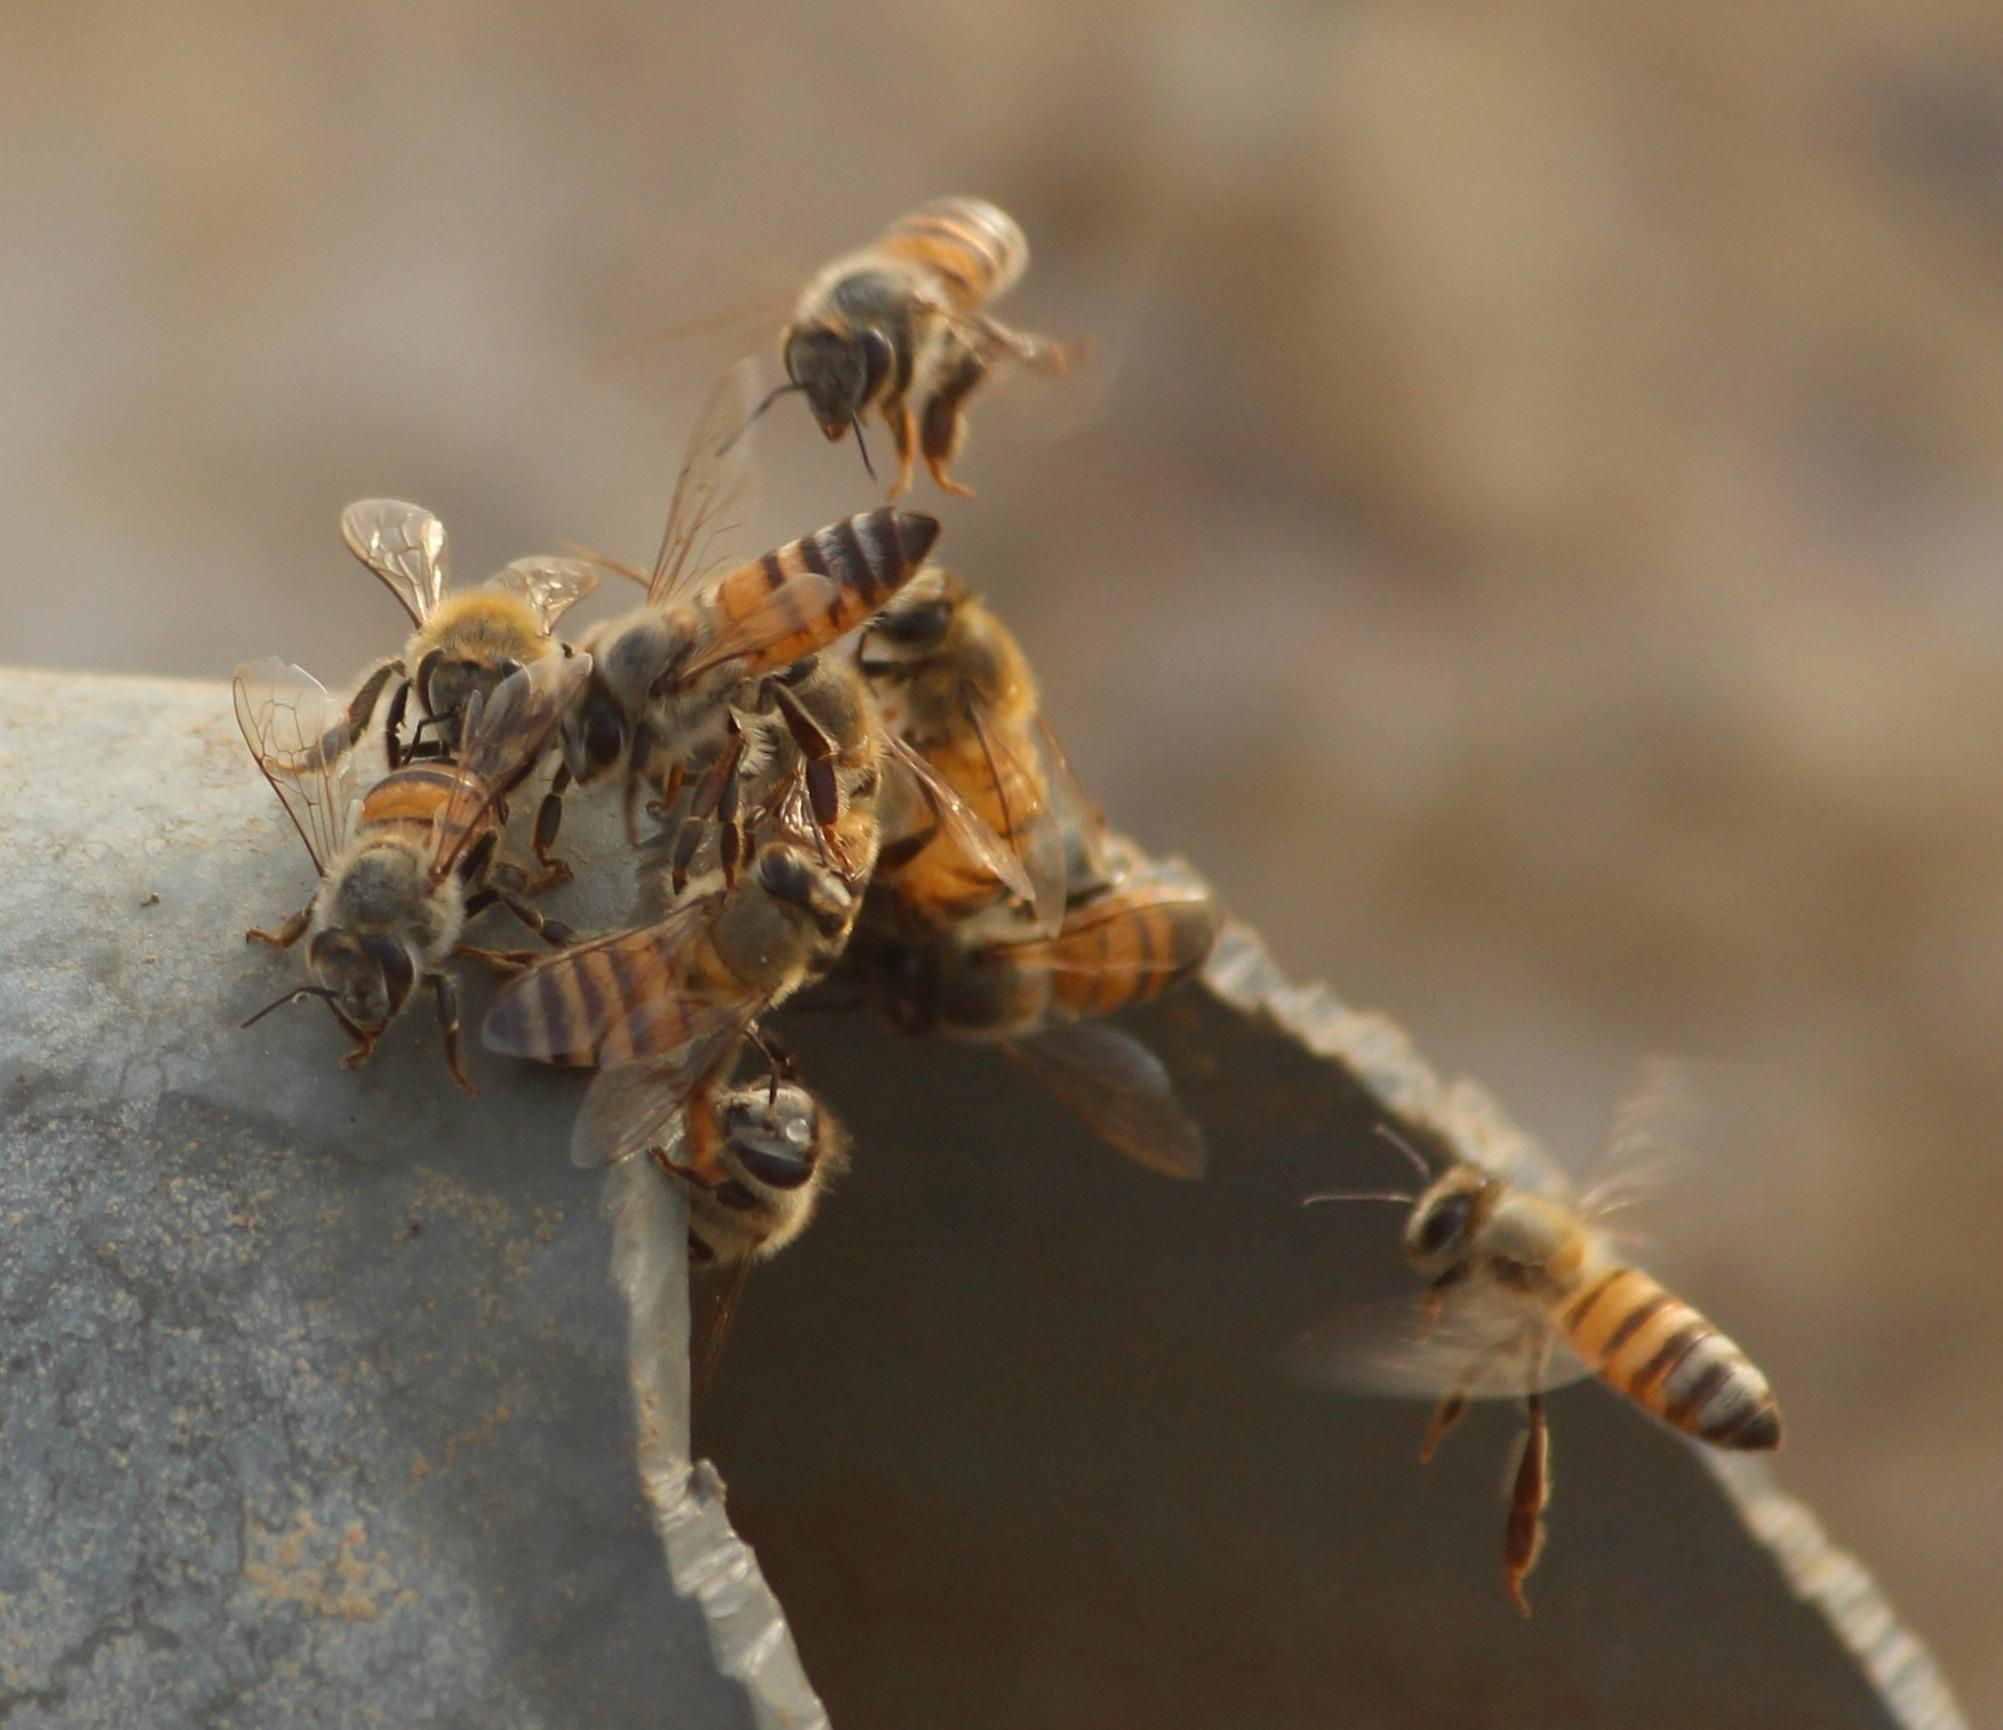Apis-mellifera-scutellata: (1308, 1040, 1834, 1611), (468, 793, 864, 1117), (768, 157, 1102, 516), (547, 514, 959, 788), (237, 712, 523, 1051), (317, 482, 637, 780), (894, 533, 1102, 959), (848, 889, 1286, 1071), (608, 1049, 867, 1253)
